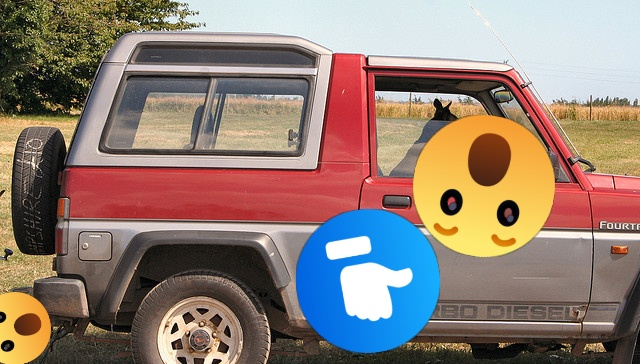like: (296, 209, 440, 353)
wow: (413, 115, 555, 257), (0, 292, 51, 364)
